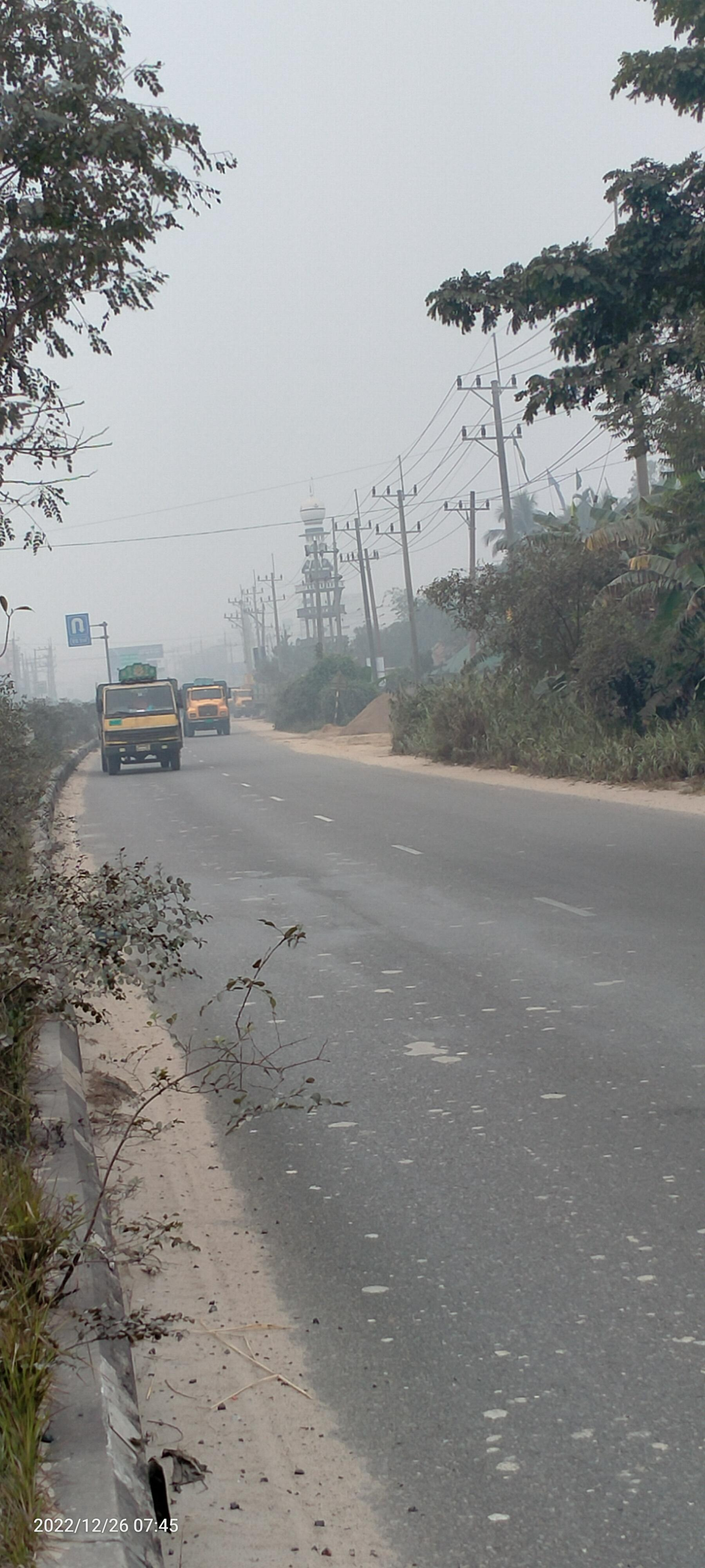Truck: (87, 660, 194, 776), (180, 675, 237, 742)
